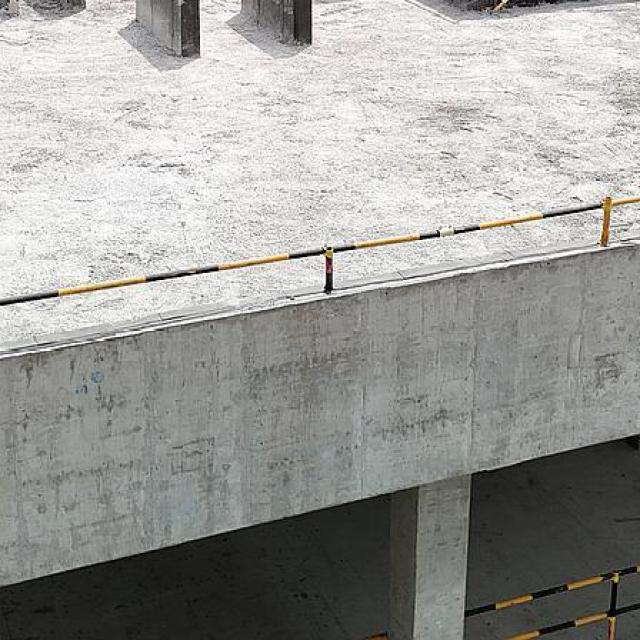edge_guardrail: (0, 196, 640, 306), (464, 564, 640, 640), (362, 631, 391, 640), (490, 0, 510, 13)
